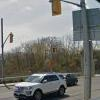Car: (10, 64, 72, 100)
